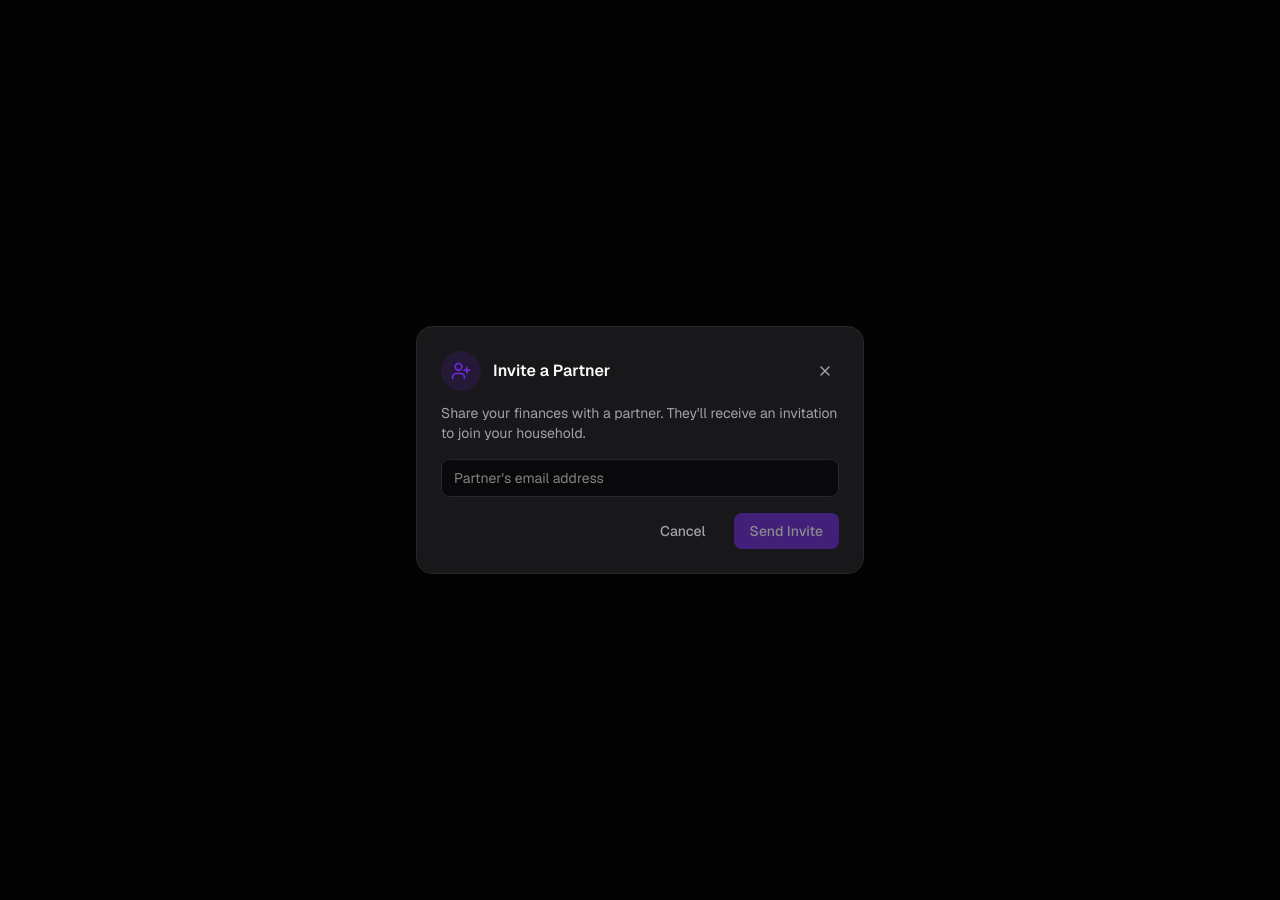
Test case: AddPartnerDialog › shows error message on API failure
Type "bob@example.com" into the field with placeholder "Partner's email address".
click(640, 478); type("bob@example.com")  # box [441, 459, 839, 497]
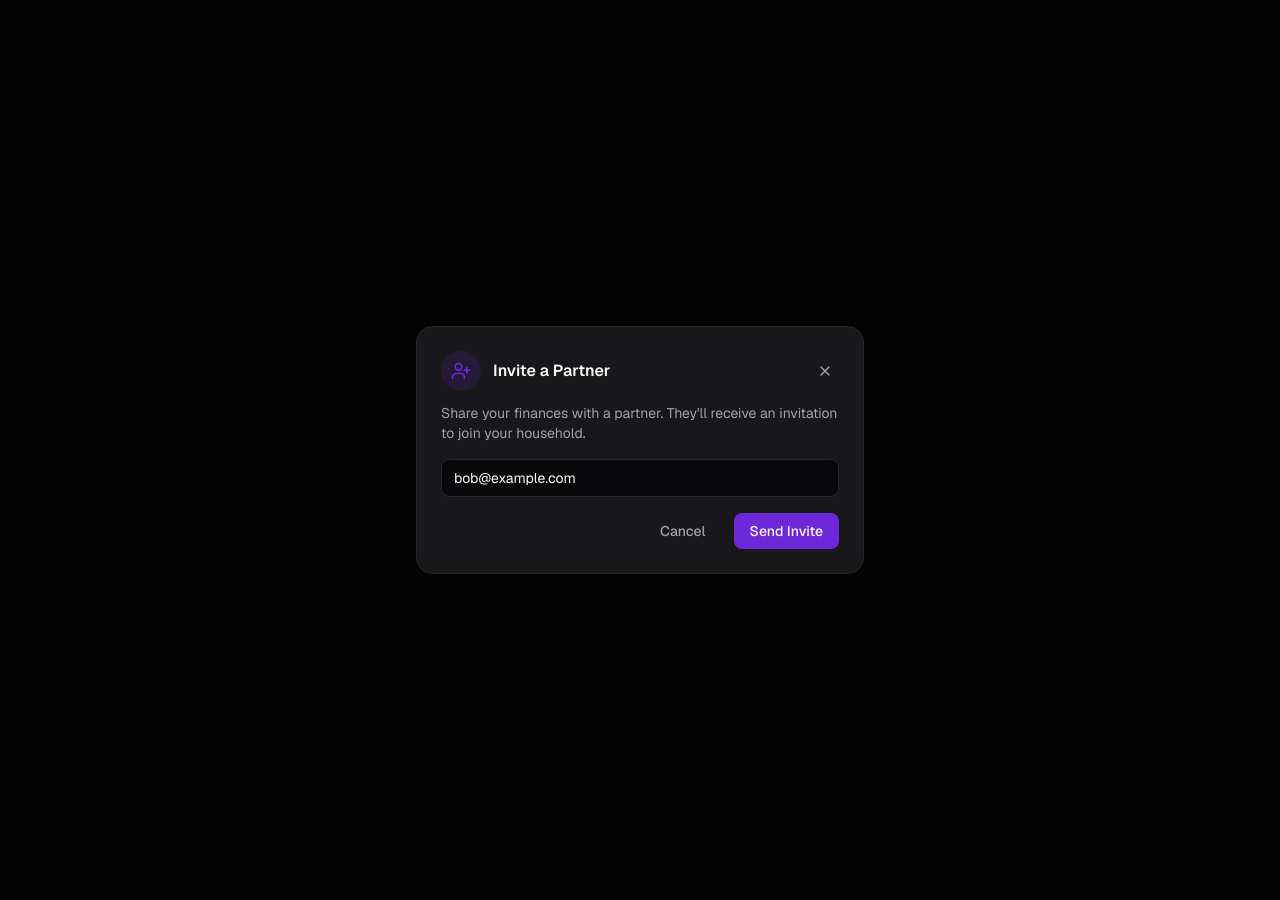
Click the button "Send Invite".
click(786, 531)  # box [734, 513, 839, 549]
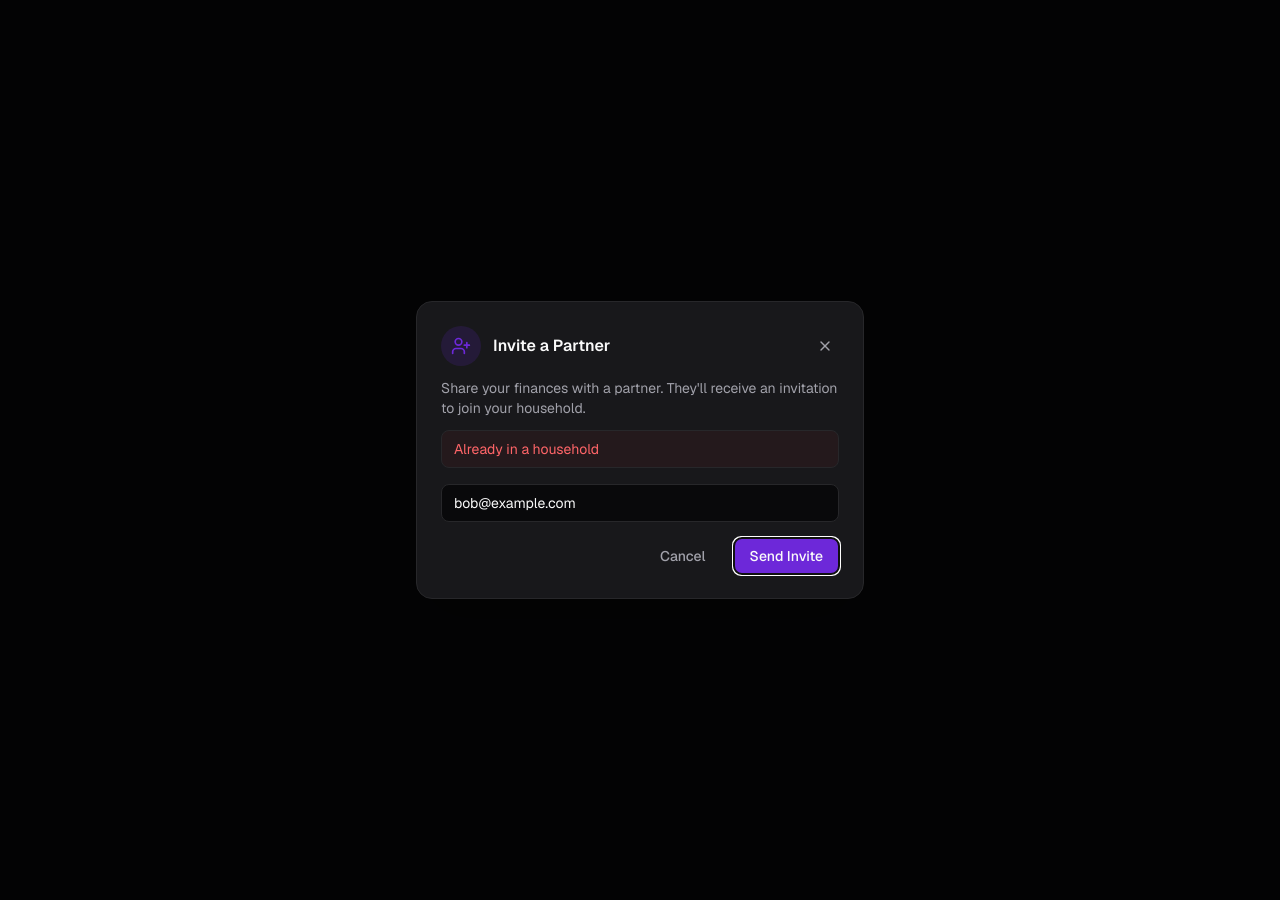
Result: the text "Already in a household" is shown at [441, 430, 839, 468]
